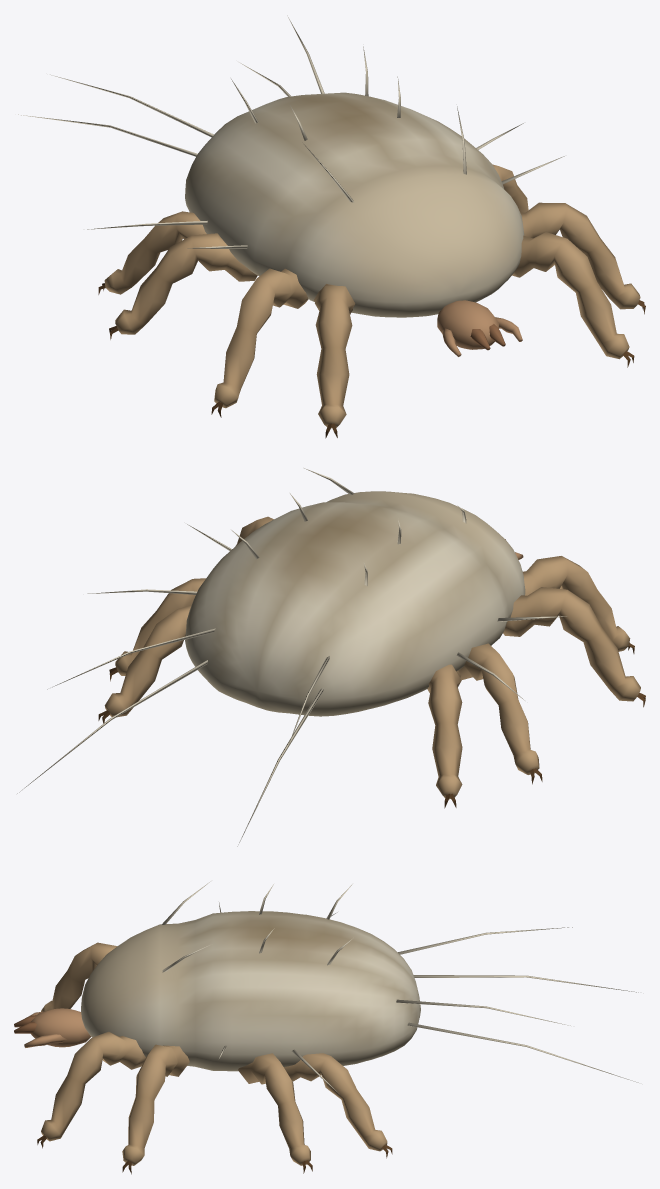
File: HouseDustMite.fbx
3 renders of one model, top to bottom at view 1: azimuth 30°, elevation 25°; view 2: azimuth 150°, elevation 25°; view 3: azimuth 270°, elevation 25°, orthographic. The views are drawn at different scales.
Parts seen in each view (by area): view 1: HouseDustMite; view 2: HouseDustMite; view 3: HouseDustMite.
Boxes of the visible parts, x1=… form: HouseDustMite: x1=18, y1=15, x2=645, y2=438; HouseDustMite: x1=17, y1=468, x2=645, y2=846; HouseDustMite: x1=14, y1=881, x2=638, y2=1174.
Bounding box in the file's own units: 1.28 × 0.5859 × 1.86.
